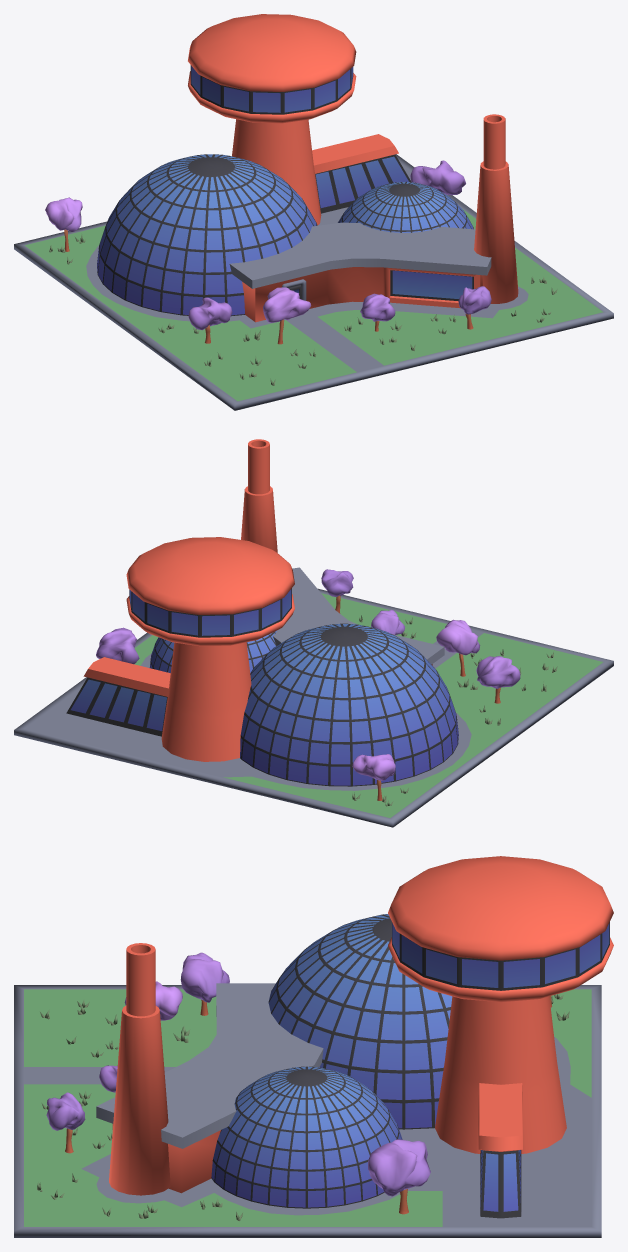
File: power_plant.glb
3 renders of one model, top to bottom at view 1: azimuth 30°, elevation 25°; view 2: azimuth 150°, elevation 25°; view 3: azimuth 270°, elevation 25°, orthographic. The views are drawn at different scales.
Visible parts, largest first — view 1: power_plant; view 2: power_plant; view 3: power_plant.
Boxes of the visible parts, left/top/right/bottom form: power_plant: left=14, top=14, right=613, bottom=410; power_plant: left=14, top=439, right=613, bottom=827; power_plant: left=14, top=856, right=613, bottom=1237.
Size of the model in its own units: 22.86 by 10.91 by 23.56.
1 material, 1 textured.
